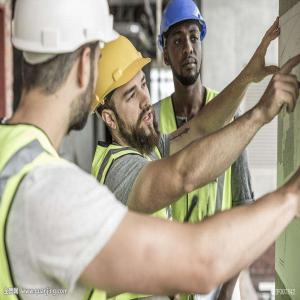blue: (156, 2, 213, 88)
white: (12, 4, 110, 136)
yellow: (91, 31, 162, 153)
